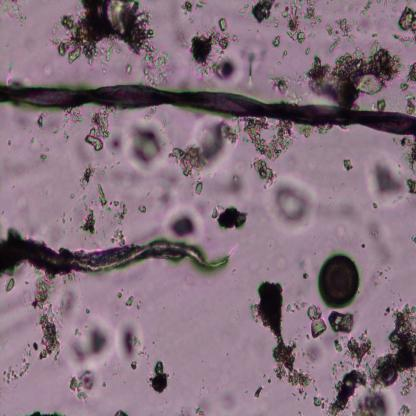Background material: (249, 278, 310, 388), (52, 0, 156, 62), (304, 45, 400, 104), (171, 113, 236, 175), (370, 304, 416, 390), (191, 19, 238, 83), (30, 271, 60, 362), (271, 173, 317, 231), (314, 366, 369, 414), (66, 318, 116, 366), (127, 119, 171, 173), (314, 193, 360, 244), (244, 119, 294, 162), (281, 0, 323, 47), (367, 157, 407, 205), (366, 214, 398, 271), (1, 341, 38, 386), (166, 205, 208, 243), (117, 316, 143, 372), (84, 108, 114, 155), (142, 44, 170, 88), (97, 184, 127, 224), (392, 7, 416, 51), (326, 18, 357, 52), (264, 238, 293, 274), (390, 138, 416, 178), (67, 366, 96, 401), (2, 149, 34, 180), (154, 168, 180, 205), (246, 30, 276, 62), (240, 1, 280, 25), (350, 390, 388, 415), (344, 334, 374, 365), (61, 282, 86, 319), (195, 390, 230, 416), (269, 75, 298, 106), (25, 131, 50, 166), (212, 206, 248, 230), (147, 358, 170, 393), (78, 202, 98, 238), (401, 66, 416, 114), (226, 167, 246, 202), (251, 159, 275, 187), (328, 309, 353, 335), (0, 0, 26, 25), (76, 162, 97, 190), (308, 304, 324, 339), (37, 56, 57, 77), (297, 253, 312, 280), (244, 51, 254, 90), (63, 107, 82, 127), (110, 227, 127, 247), (182, 0, 204, 14), (403, 177, 416, 199), (191, 177, 205, 197), (248, 385, 265, 399), (406, 231, 416, 253), (3, 276, 16, 292), (361, 0, 373, 17), (29, 410, 62, 416), (375, 98, 387, 112), (398, 403, 412, 415), (344, 156, 353, 173), (272, 34, 280, 50), (125, 295, 135, 306), (36, 113, 43, 128), (114, 408, 127, 416), (127, 63, 134, 74)
Cellulose filter fibre: (0, 233, 230, 271)
Cotton: (0, 83, 416, 137)
Diatom: (318, 253, 358, 306)
